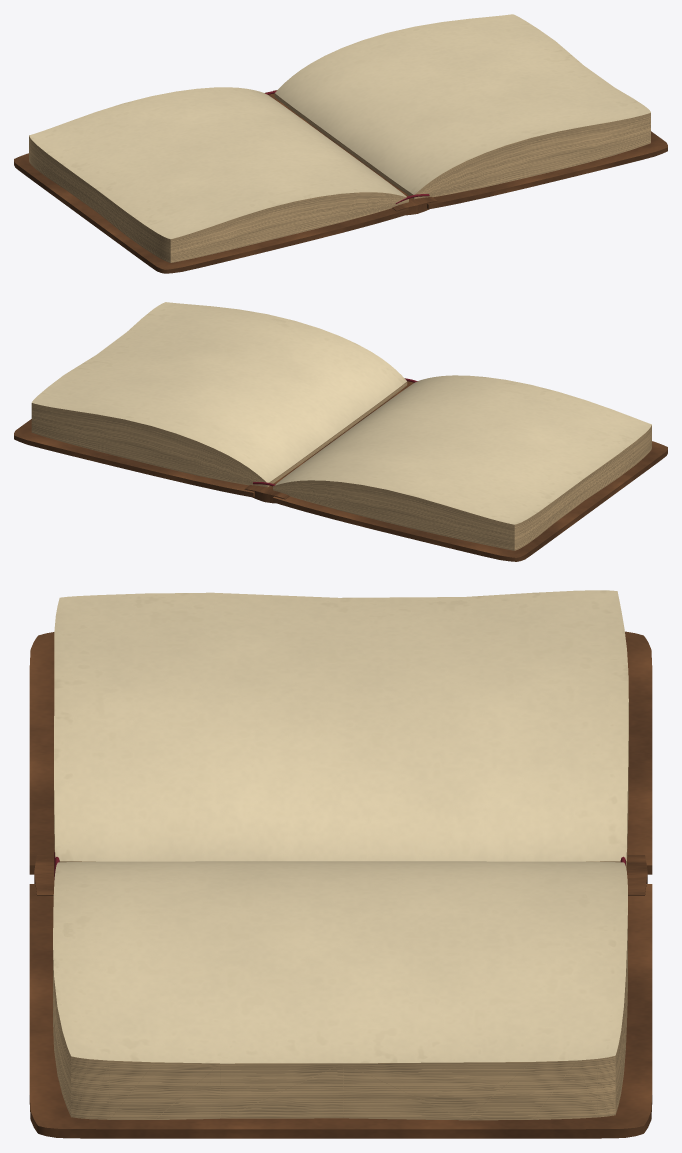
File: OpenBook_07.fbx
The picture shows the model from 3 angles, top to bottom: view 1: azimuth 30°, elevation 25°; view 2: azimuth 150°, elevation 25°; view 3: azimuth 270°, elevation 25°; orthographic projection. The views are drawn at different scales.
Parts seen in each view (by area): view 1: OpenBook_07.001; view 2: OpenBook_07.001; view 3: OpenBook_07.001.
Boxes of the visible parts, <box> form: OpenBook_07.001: <box>14,14,667,273</box>; OpenBook_07.001: <box>14,302,667,561</box>; OpenBook_07.001: <box>29,590,652,1138</box>.
Size of the model in its own units: 0.42 by 0.0344 by 0.222.
